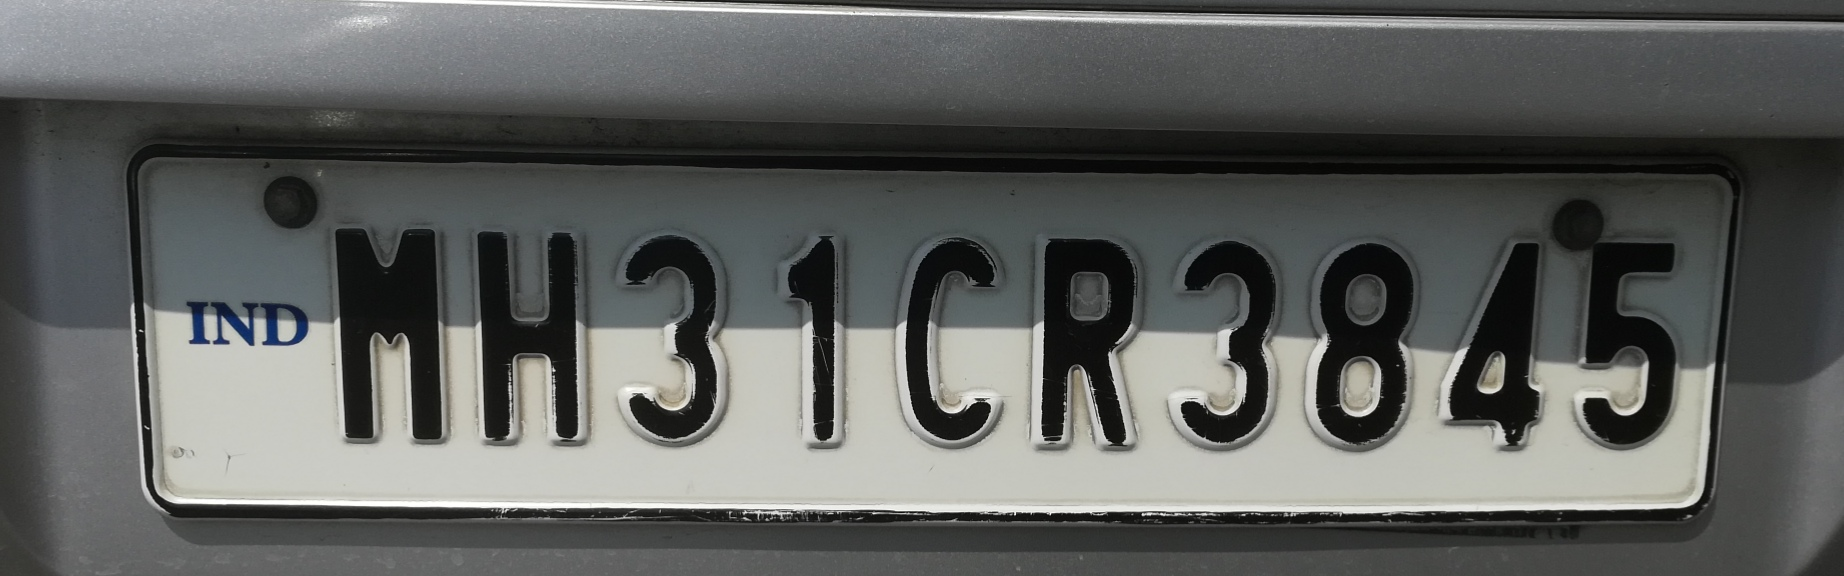numberplate: (118, 129, 1742, 529)
